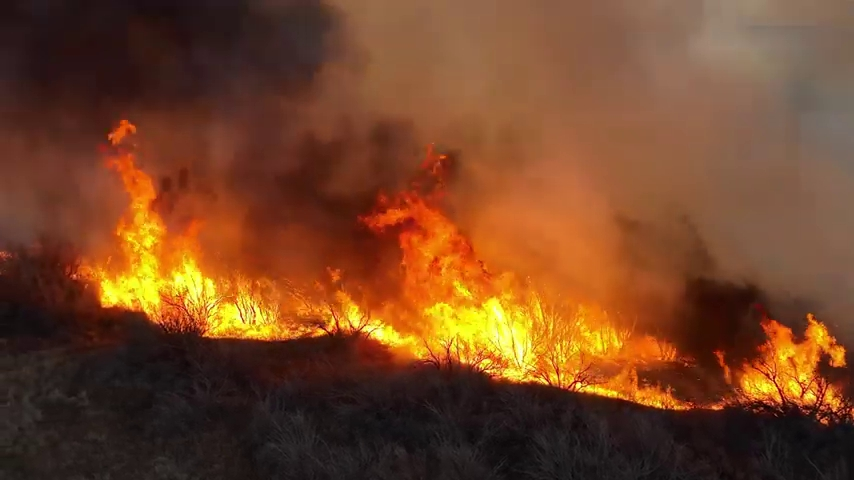forest_fire: (87, 120, 846, 410)
